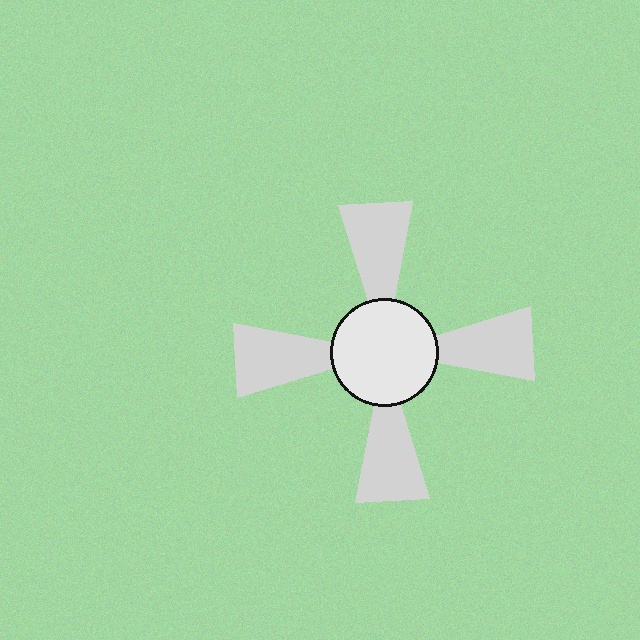fan: (205, 173, 563, 531)
